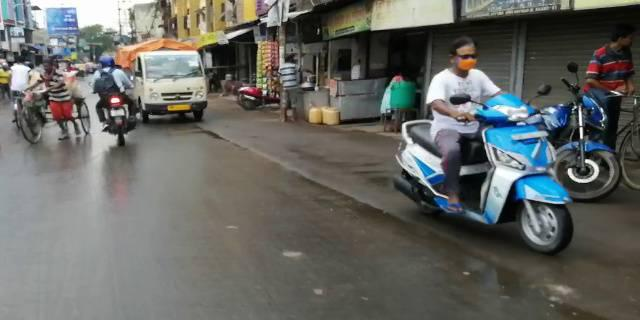Minitruck: (130, 43, 210, 124)
Motorbike: (386, 43, 579, 268), (92, 63, 136, 151)
